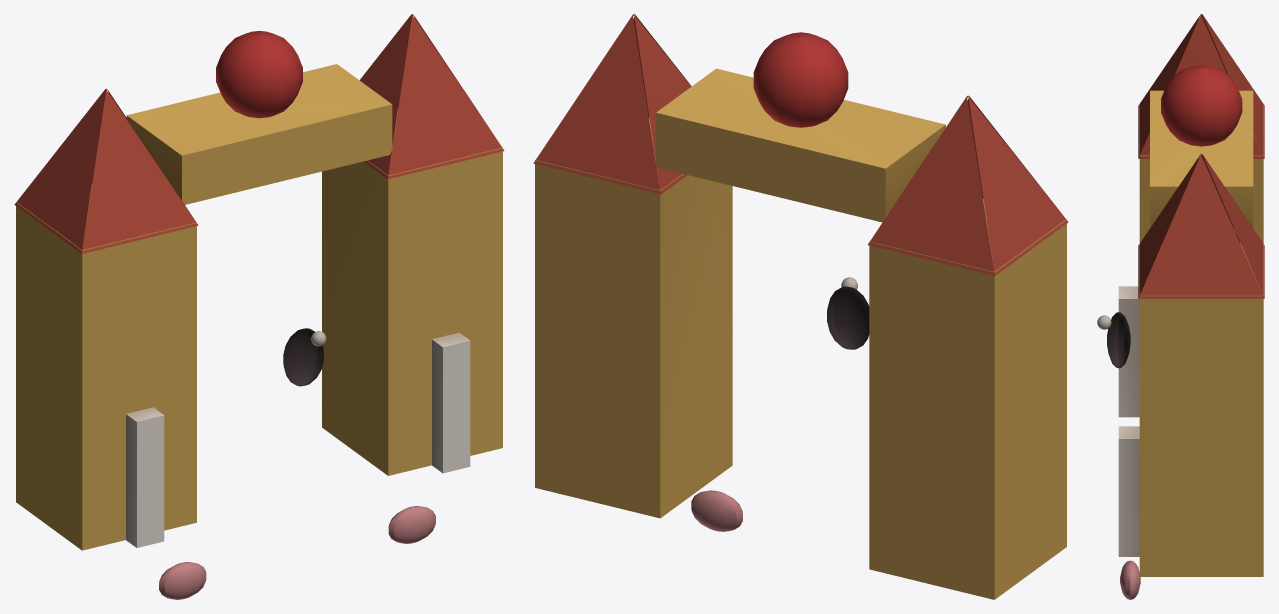
The picture shows the model from 3 angles, left to right: view 1: azimuth 30°, elevation 25°; view 2: azimuth 150°, elevation 25°; view 3: azimuth 270°, elevation 25°; orthographic projection. The views are drawn at different scales.
Visible parts, largest first — view 1: pet_p0e3fb828; view 2: pet_p0e3fb828; view 3: pet_p0e3fb828.
Boxes of the visible parts, bbox=[...] form: pet_p0e3fb828: bbox=[14, 14, 504, 599]; pet_p0e3fb828: bbox=[533, 14, 1068, 599]; pet_p0e3fb828: bbox=[1097, 14, 1264, 599].
Size of the model in its own units: 0.4422 by 0.5076 by 0.162.
